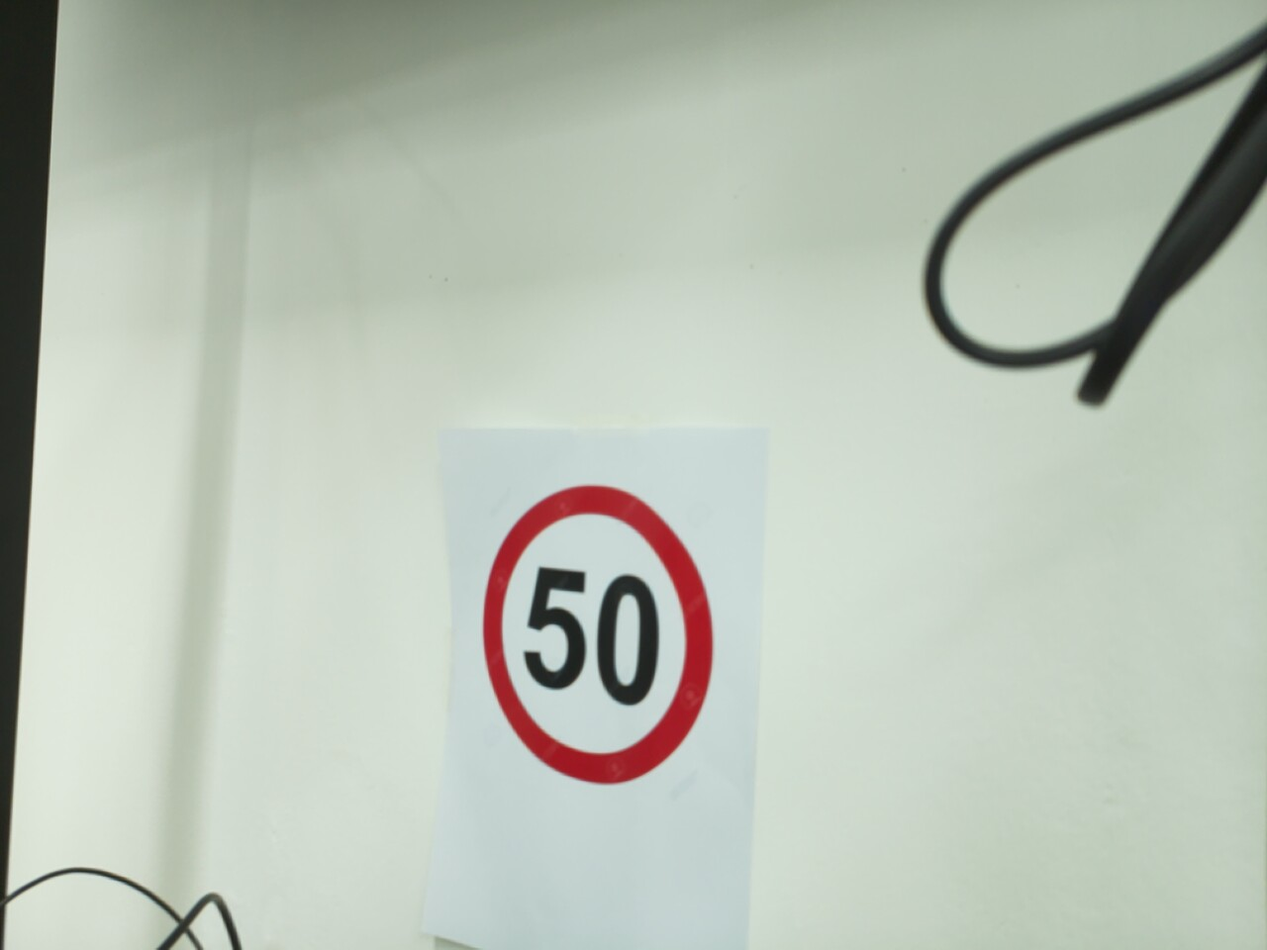speed_50: (475, 475, 721, 795)
